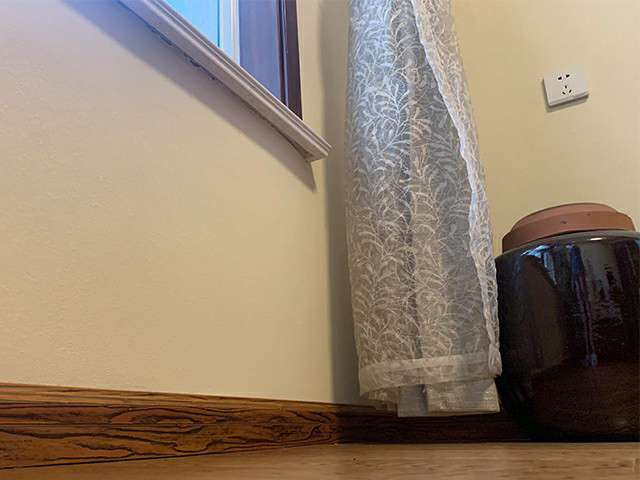curtain: (344, 1, 505, 418)
